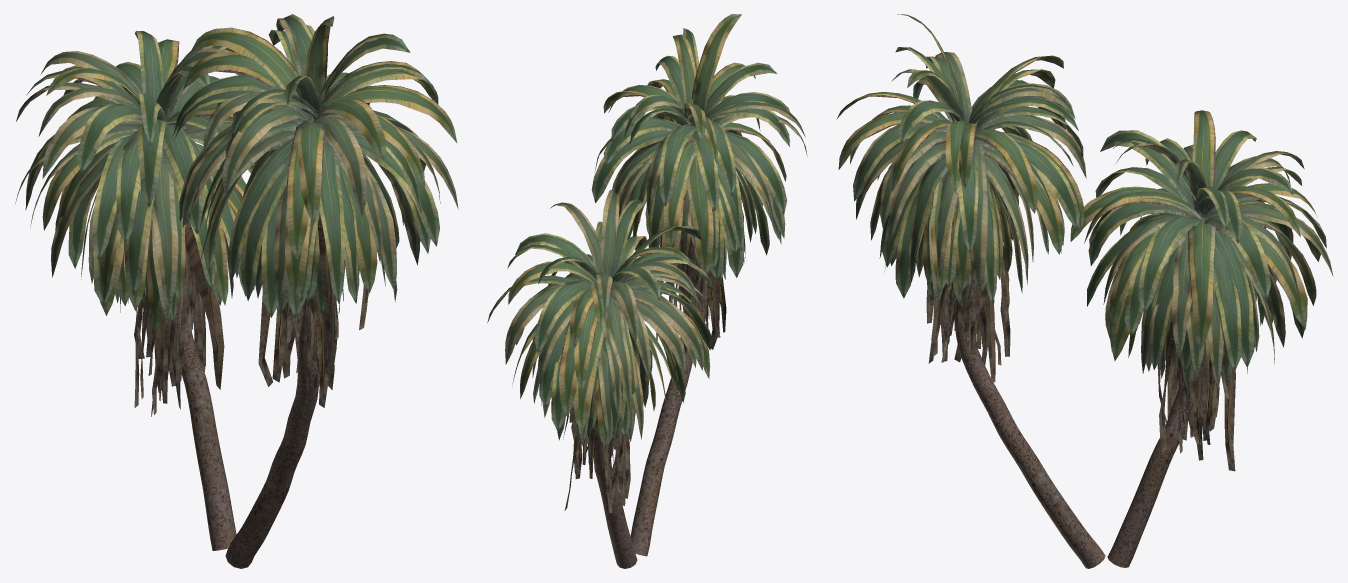
File: palmera.obj
3 renders of one model, left to right at view 1: azimuth 30°, elevation 25°; view 2: azimuth 150°, elevation 25°; view 3: azimuth 270°, elevation 25°, orthographic. The views are drawn at different scales.
Parts seen in each view (by area): view 1: Leaf_Diffuse, Vine_Glos, Bark_Diffuse; view 2: Leaf_Diffuse, Bark_Diffuse, Vine_Glos; view 3: Leaf_Diffuse, Vine_Glos, Bark_Diffuse.
Boxes of the visible parts, x1,y1,x2,y2 form: Leaf_Diffuse: (15,14,458,335); Vine_Glos: (134,212,368,416); Bark_Diffuse: (182,298,318,568); Leaf_Diffuse: (487,14,807,448); Bark_Diffuse: (594,284,708,568); Vine_Glos: (563,234,726,513); Leaf_Diffuse: (836,14,1333,394); Vine_Glos: (926,245,1235,471); Bark_Diffuse: (954,215,1204,568).
Bounding box in the file's own units: 23.85 × 53.75 × 44.34.
Materials: 1 (1 with a texture image).
